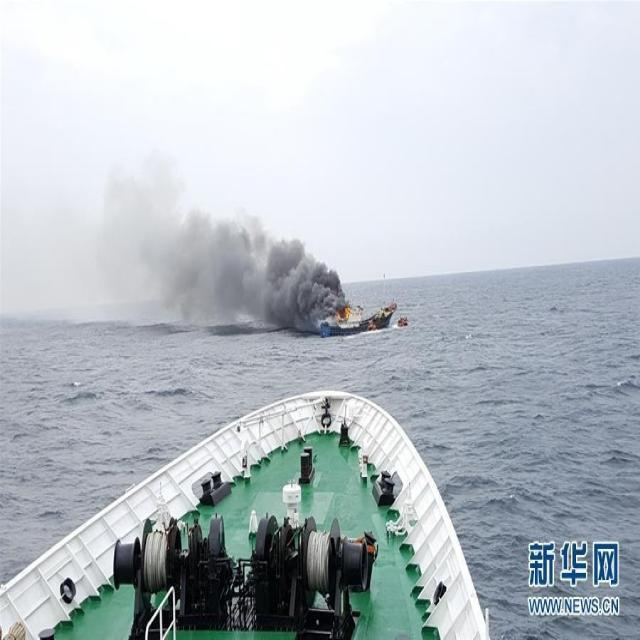Smoke: (96, 154, 352, 334)
